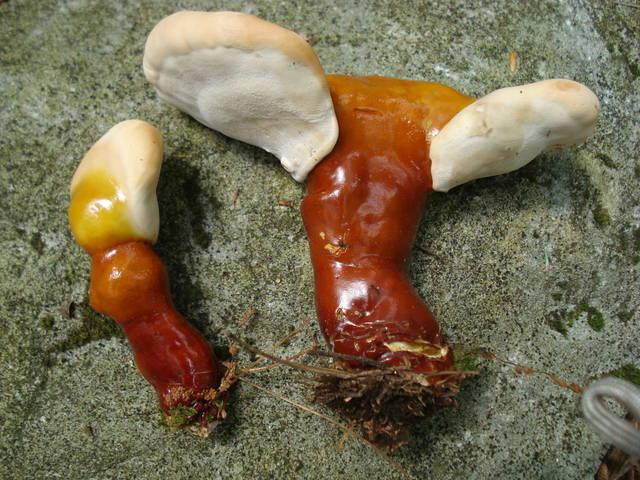poisonous_mushroom: (140, 8, 601, 404), (65, 117, 230, 436)
